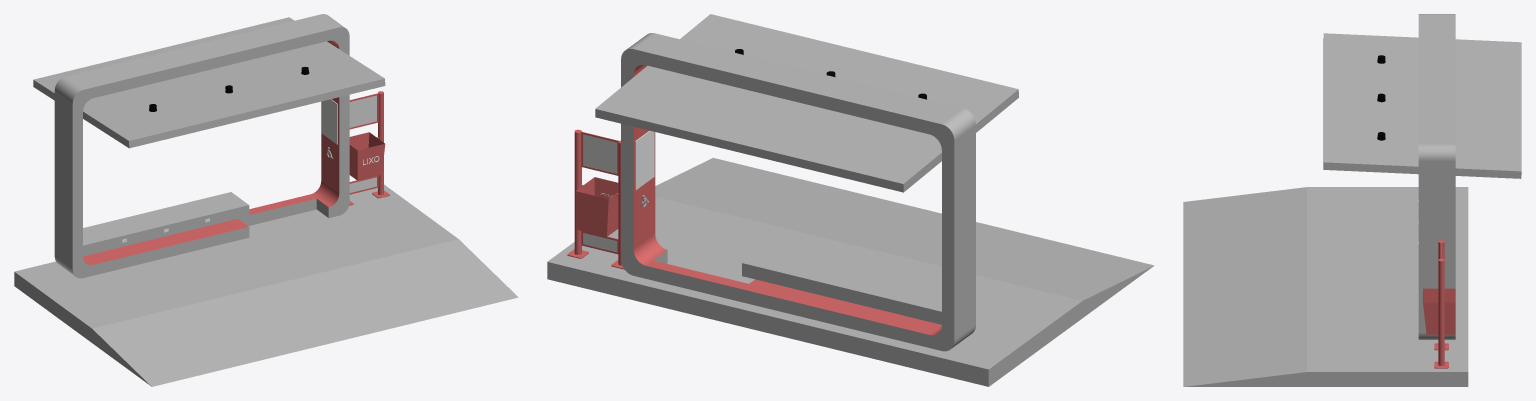
The model's file is abrigo_ponto_de_onibus (2).glb.
3 renders of one model, left to right at view 1: azimuth 30°, elevation 25°; view 2: azimuth 150°, elevation 25°; view 3: azimuth 270°, elevation 25°, orthographic. The views are drawn at different scales.
Parts seen in each view (by area): view 1: Mesh68_Concreto_Pr__Moldado_0, Mesh67_Concreto_Pr__Moldado_0, Mesh4_Concreto_Pr__Moldado_0, Mesh5_Concreto_Pr__Moldado_0, Mesh3_Concreto_Pr__Moldado_0, Mesh4_M_0023_FireBrick_0, Mesh61_Color_G02_0, Mesh58_Aluminum_0, Mesh1_ImagemHandler_0, Mesh63_Color_G02_0; view 2: Mesh5_Concreto_Pr__Moldado_0, Mesh67_Concreto_Pr__Moldado_0, Mesh4_Concreto_Pr__Moldado_0, Mesh68_Concreto_Pr__Moldado_0, Mesh3_Concreto_Pr__Moldado_0, Mesh4_M_0023_FireBrick_0, Mesh61_Color_G02_0, Mesh58_Aluminum_0, Mesh1_ImagemHandler_0, Mesh63_Color_G02_0; view 3: Mesh67_Concreto_Pr__Moldado_0, Mesh68_Concreto_Pr__Moldado_0, Mesh5_Concreto_Pr__Moldado_0, Mesh4_Concreto_Pr__Moldado_0, Mesh61_Color_G02_0, Mesh63_Color_G02_0.
Part boxes in pixels (x1,y1,x2,y2): Mesh68_Concreto_Pr__Moldado_0: [92, 239, 518, 386]; Mesh67_Concreto_Pr__Moldado_0: [14, 184, 458, 342]; Mesh4_Concreto_Pr__Moldado_0: [54, 14, 349, 278]; Mesh5_Concreto_Pr__Moldado_0: [33, 17, 385, 148]; Mesh3_Concreto_Pr__Moldado_0: [83, 192, 249, 256]; Mesh4_M_0023_FireBrick_0: [83, 40, 339, 264]; Mesh61_Color_G02_0: [349, 132, 385, 180]; Mesh58_Aluminum_0: [349, 95, 376, 127]; Mesh1_ImagemHandler_0: [321, 99, 337, 144]; Mesh63_Color_G02_0: [378, 91, 383, 195]; Mesh5_Concreto_Pr__Moldado_0: [595, 14, 1018, 192]; Mesh67_Concreto_Pr__Moldado_0: [547, 196, 1082, 386]; Mesh4_Concreto_Pr__Moldado_0: [621, 33, 975, 351]; Mesh68_Concreto_Pr__Moldado_0: [655, 158, 1154, 317]; Mesh3_Concreto_Pr__Moldado_0: [742, 247, 941, 324]; Mesh4_M_0023_FireBrick_0: [633, 65, 941, 335]; Mesh61_Color_G02_0: [575, 177, 618, 236]; Mesh58_Aluminum_0: [583, 134, 617, 173]; Mesh1_ImagemHandler_0: [635, 130, 654, 190]; Mesh63_Color_G02_0: [574, 129, 581, 254]; Mesh67_Concreto_Pr__Moldado_0: [1307, 187, 1468, 386]; Mesh68_Concreto_Pr__Moldado_0: [1183, 187, 1306, 386]; Mesh5_Concreto_Pr__Moldado_0: [1323, 33, 1521, 178]; Mesh4_Concreto_Pr__Moldado_0: [1418, 14, 1455, 339]; Mesh61_Color_G02_0: [1423, 288, 1455, 334]; Mesh63_Color_G02_0: [1438, 258, 1444, 365].
Bounding box in the file's own units: 0.053 × 0.028 × 0.041.
